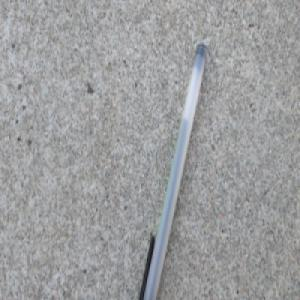Pen: (137, 43, 209, 300)
